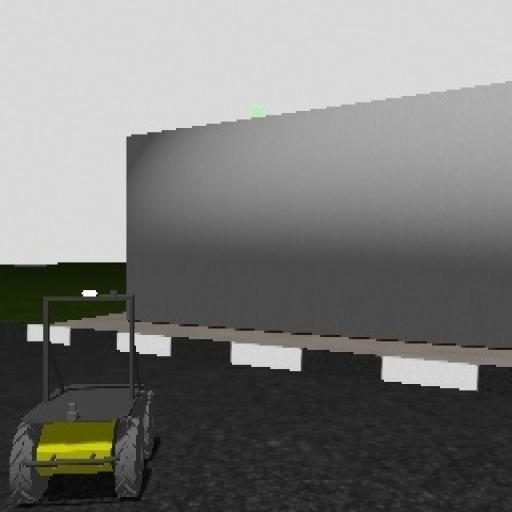huskya200: (2, 284, 158, 510)
